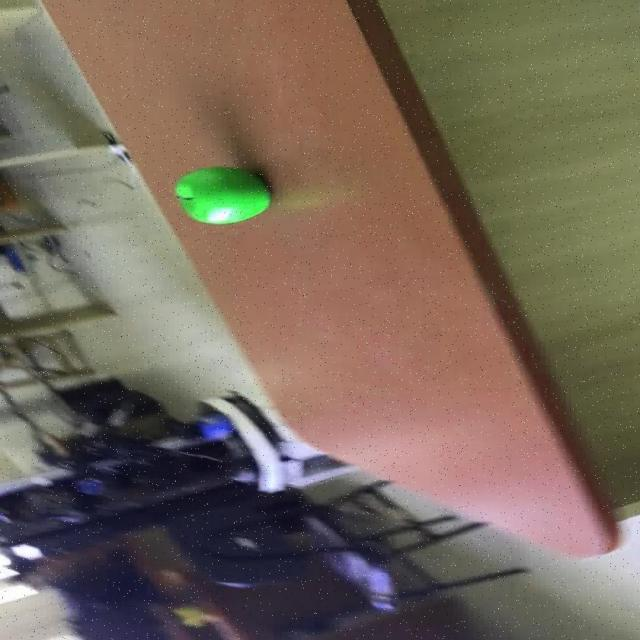Apple: (172, 166, 271, 223)
